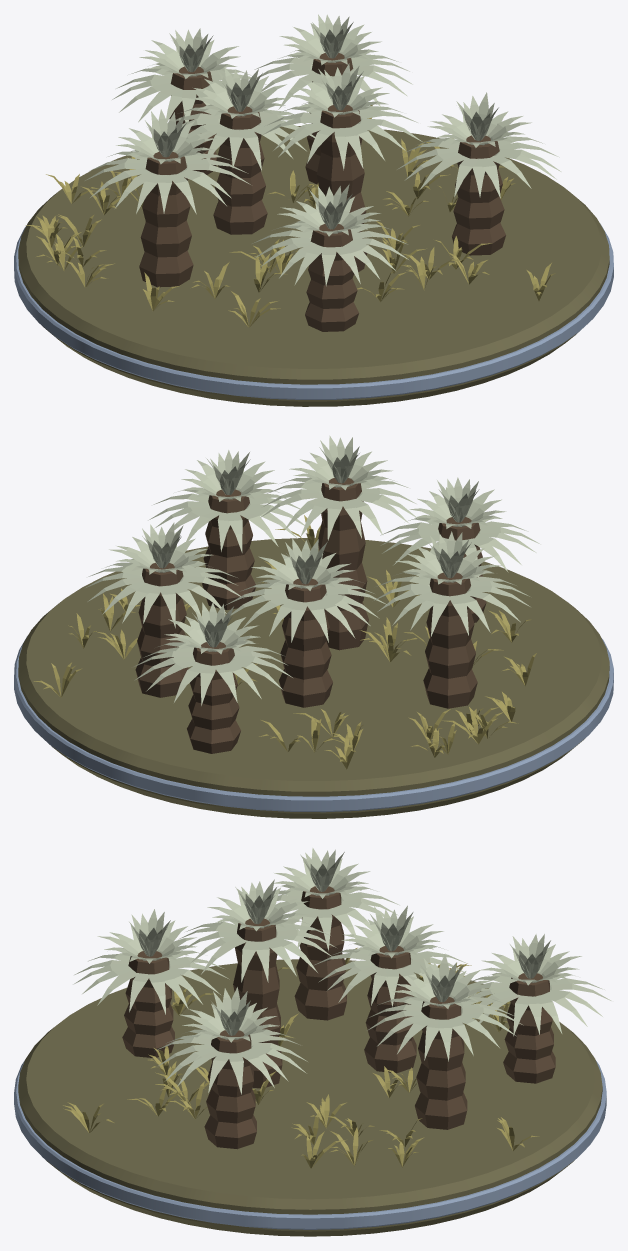
The model's file is cuenca_paramo.glb.
The picture shows the model from 3 angles, top to bottom: view 1: azimuth 30°, elevation 25°; view 2: azimuth 150°, elevation 25°; view 3: azimuth 270°, elevation 25°; orthographic projection.
Parts seen in each view (by area): view 1: geo_base, geo_detail; view 2: geo_base, geo_detail; view 3: geo_base, geo_detail.
Boxes of the visible parts, x1,y1,x2,y2 form: geo_base: (14, 126, 613, 406); geo_detail: (25, 14, 561, 331); geo_base: (14, 538, 613, 818); geo_detail: (33, 435, 540, 769); geo_base: (14, 959, 606, 1236); geo_detail: (63, 848, 611, 1168).
Size of the model in its own units: 0.1116 by 0.0483 by 0.1129.
